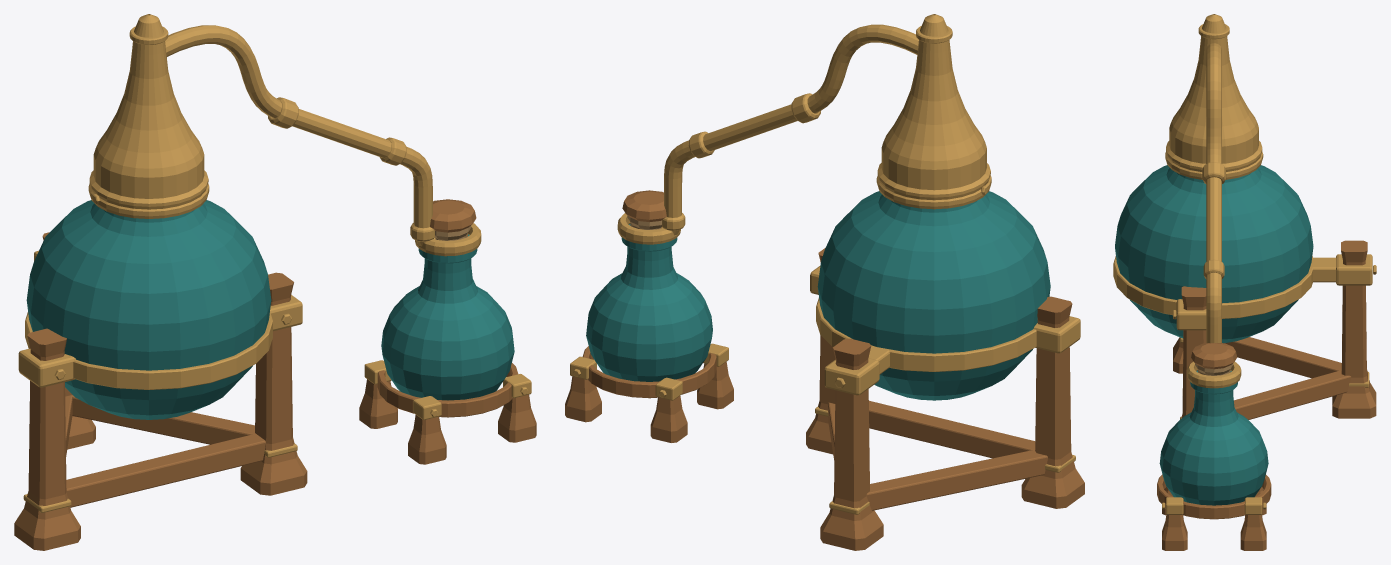
File: asset.glb
3 renders of one model, left to right at view 1: azimuth 30°, elevation 25°; view 2: azimuth 150°, elevation 25°; view 3: azimuth 270°, elevation 25°, orthographic. The views are drawn at different scales.
Parts seen in each view (by area): view 1: boiling_flask, receiving_bottle, alembic_head, boiler_support_left, boiler_support_right, descending_transfer_tube, boiler_base_rail_front, boiler_cradle_band, boiler_base_rail_right, flask_neck_joint, receiver_oak_cradle, receiver_foot_front_left (+7 smaller); view 2: boiling_flask, receiving_bottle, alembic_head, boiler_support_rear, boiler_support_left, descending_transfer_tube, boiler_base_rail_left, boiler_base_rail_front, boiler_cradle_band, flask_neck_joint, receiver_oak_cradle, boiler_support_right (+7 smaller); view 3: boiling_flask, receiving_bottle, alembic_head, boiler_support_rear, descending_transfer_tube, boiler_cradle_band, boiler_base_rail_right, boiler_base_rail_left, boiler_support_right, receiver_oak_cradle, flask_neck_joint, stopper_oak_cap (+9 smaller).
Part boxes in pixels (x1,y1,x2,y2): boiling_flask: (26,200,271,419); receiving_bottle: (381,234,514,400); alembic_head: (93,14,204,198); boiler_support_left: (14,328,80,550); boiler_support_right: (240,272,307,495); descending_transfer_tube: (165,25,435,246); boiler_base_rail_front: (66,434,265,507); boiler_cradle_band: (25,312,272,389); boiler_base_rail_right: (71,395,255,444); flask_neck_joint: (88,170,209,218); receiver_oak_cradle: (377,363,518,417); receiver_foot_front_left: (408,415,446,464); boiling_flask: (817,191,1050,400); receiving_bottle: (586,224,712,381); alembic_head: (881,14,986,190); boiler_support_rear: (820,338,883,550); boiler_support_left: (1021,296,1084,508); descending_transfer_tube: (661,24,918,235); boiler_base_rail_left: (866,449,1047,510); boiler_base_rail_front: (869,400,1035,458); boiler_cradle_band: (816,298,1036,371); flask_neck_joint: (876,163,991,209); receiver_oak_cradle: (582,346,716,398); boiler_support_right: (806,248,835,454); boiling_flask: (1115,165,1313,343); receiving_bottle: (1159,370,1268,505); alembic_head: (1169,14,1258,163); boiler_support_rear: (1332,240,1376,418); descending_transfer_tube: (1206,43,1221,342); boiler_cradle_band: (1113,256,1313,318); boiler_base_rail_right: (1234,370,1351,419); boiler_base_rail_left: (1224,337,1341,378); boiler_support_right: (1181,286,1206,417); receiver_oak_cradle: (1157,474,1271,519); flask_neck_joint: (1165,141,1263,179); stopper_oak_cap: (1191,343,1237,369).
Bounding box in the file's own units: 0.3422 × 0.32 × 0.1933.
